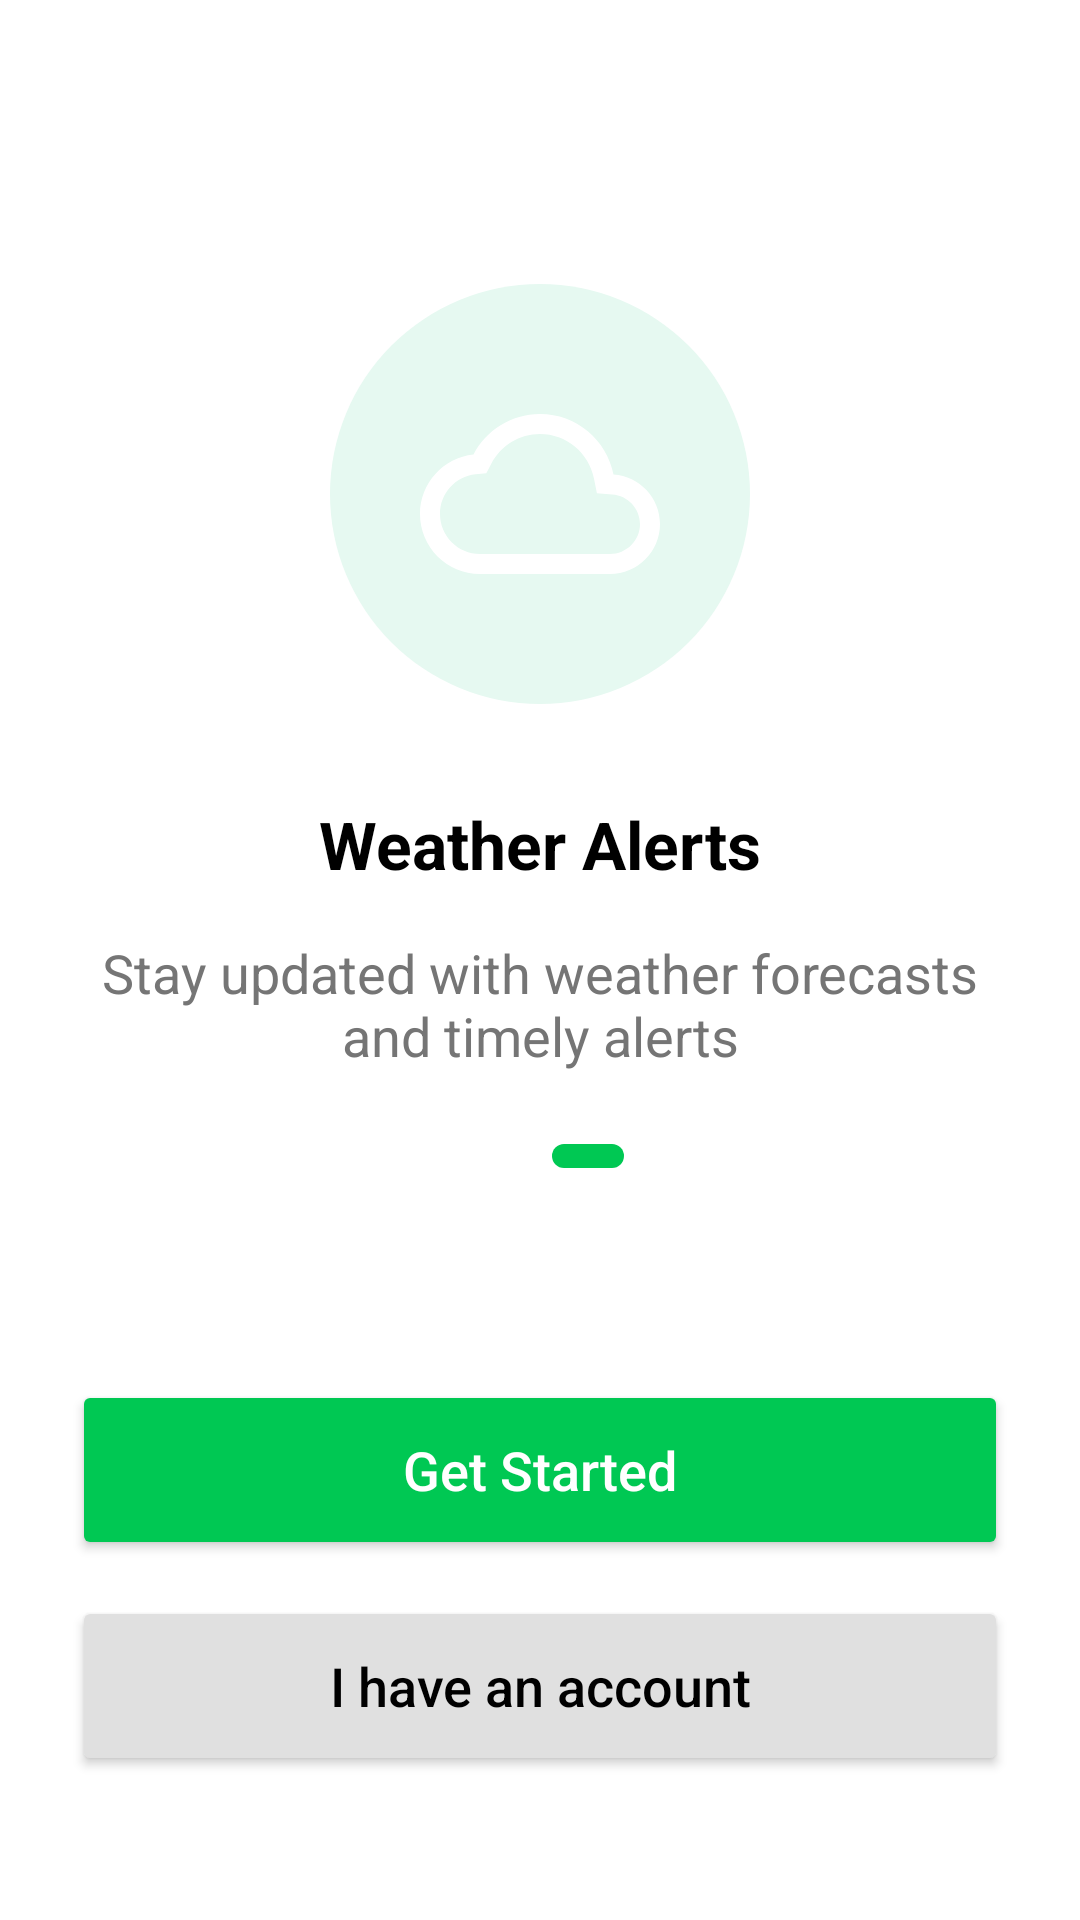

Icon bounding boxes for this 1080 x 1920 phone screenshot, format detection(x1, y1, x2, y2):
weather: detection(420, 414, 660, 574)
